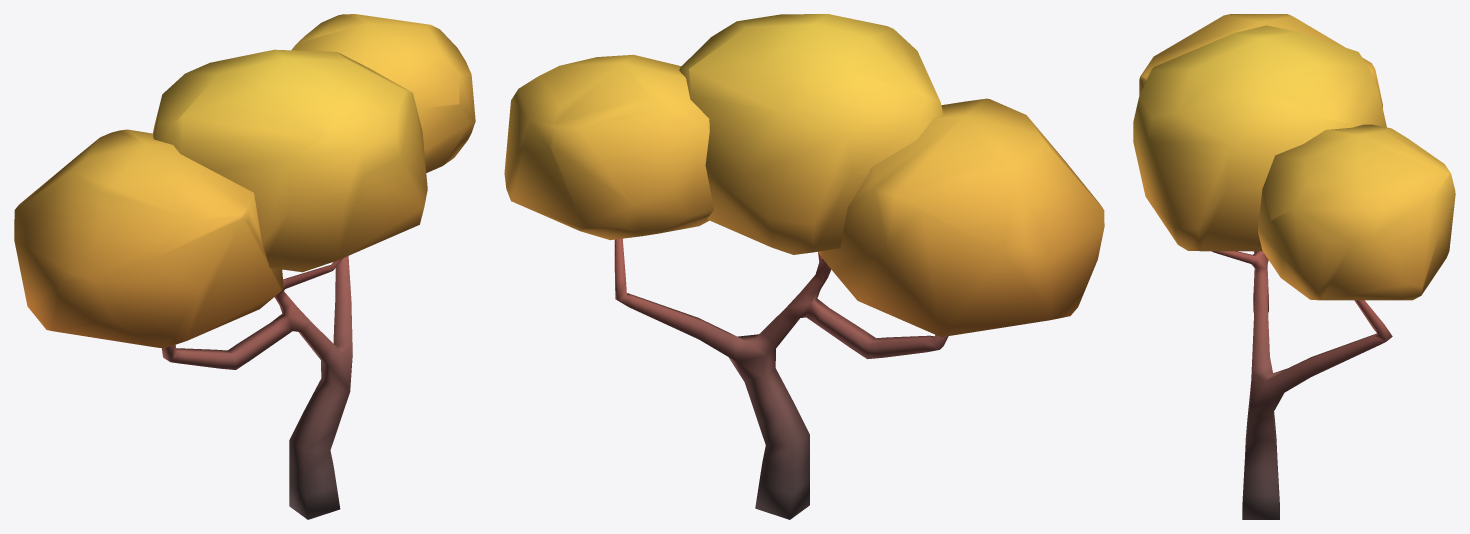
3 views of the same model, side by side, from view 1: azimuth 30°, elevation 25°; view 2: azimuth 150°, elevation 25°; view 3: azimuth 270°, elevation 25° (orthographic). The views are drawn at different scales.
Visible parts, largest first — view 1: Vert.027-col; view 2: Vert.027-col; view 3: Vert.027-col.
Part boxes in pixels (x1,y1,x2,y2): Vert.027-col: (14, 14, 475, 519); Vert.027-col: (504, 14, 1104, 519); Vert.027-col: (1133, 14, 1455, 519).
Size of the model in its own units: 6.01 by 5.55 by 3.51.
Materials: 1 (1 with a texture image).
